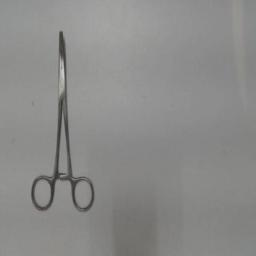Crile Artery Forceps: (26, 27, 98, 219)
